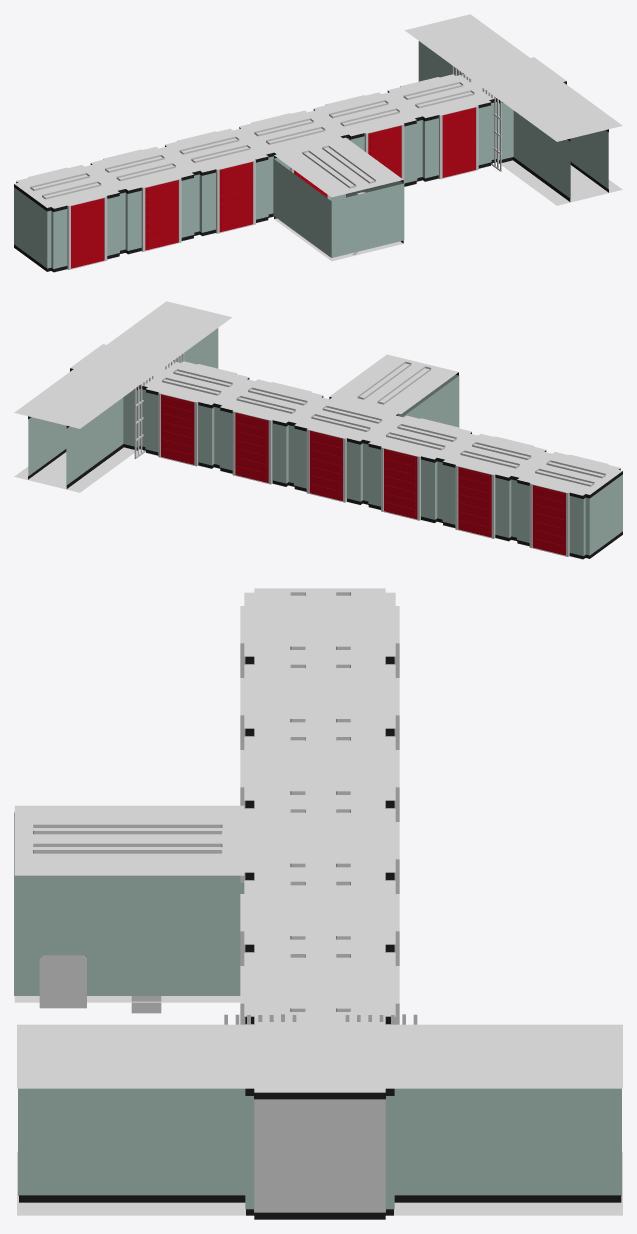
The model's file is intro.fbx.
3 views of the same model, one above another, from view 1: azimuth 30°, elevation 25°; view 2: azimuth 150°, elevation 25°; view 3: azimuth 270°, elevation 25° (orthographic). The views are drawn at different scales.
Visible parts, largest first — view 1: corridor, corridor.001, cell, lamp.001, Plane.001, prison_door.010, prison_door.003, prison_door.002, prison_door.001, prison_door.009, door_frame.002, door_frame.003 (+5 smaller); view 2: corridor, corridor.001, cell, lamp.001, Plane.001, prison_door.011, prison_door.007, prison_door.006, prison_door.005, prison_door.004, prison_door.008, door_frame.008 (+7 smaller); view 3: corridor.001, corridor, cell, lamp, prop, lamp.001.
Boxes of the visible parts, box(x1,y1,x2,y2) form: corridor: box(14, 74, 492, 272); corridor.001: box(405, 14, 622, 205); cell: box(273, 137, 404, 261); lamp.001: box(30, 82, 474, 199); Plane.001: box(14, 184, 47, 271); prison_door.010: box(442, 107, 475, 177); prison_door.003: box(71, 198, 104, 268); prison_door.002: box(145, 180, 178, 250); prison_door.001: box(219, 162, 252, 232); prison_door.009: box(368, 125, 401, 177); door_frame.002: box(141, 178, 181, 251); door_frame.003: box(67, 196, 107, 269); corridor: box(144, 361, 622, 559); corridor.001: box(14, 301, 231, 492); cell: box(329, 354, 459, 427); lamp.001: box(162, 369, 605, 486); Plane.001: box(589, 471, 622, 558); prison_door.011: box(161, 394, 194, 464); prison_door.007: box(532, 485, 565, 555); prison_door.006: box(309, 430, 342, 501); prison_door.005: box(384, 449, 417, 519); prison_door.004: box(458, 467, 491, 537); prison_door.008: box(235, 412, 268, 482); door_frame.008: box(232, 410, 272, 484); corridor.001: box(17, 1020, 622, 1219); corridor: box(244, 588, 395, 1024); cell: box(14, 805, 244, 1002); lamp: box(33, 824, 222, 853); prop: box(39, 955, 86, 1008); lamp.001: box(290, 592, 350, 1011).
Size of what is drawn, in the model's own units: 3150 by 424 by 1608.
